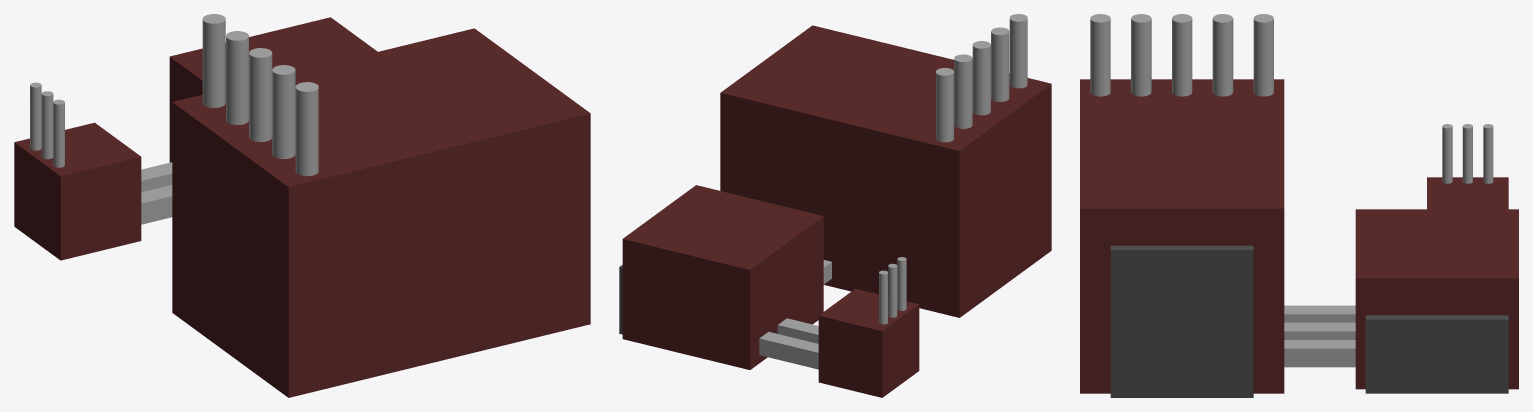
Rendered from factory.fbx.
3 views of the same model, side by side, from view 1: azimuth 30°, elevation 25°; view 2: azimuth 150°, elevation 25°; view 3: azimuth 270°, elevation 25° (orthographic). The views are drawn at different scales.
Visible parts, largest first — view 1: pCube1, pCube4, pCube3, pCylinder6, pCylinder5, pCylinder4, pCylinder7, pCylinder8, pCube5, pCylinder1, pCylinder2, pCylinder3 (+1 smaller); view 2: pCube1, pCube3, pCube4, pCube9, pCylinder5, pCylinder6, pCylinder7, pCylinder8, pCylinder4, pCube5, pCylinder3, pCylinder1 (+1 smaller); view 3: pCube1, pCube10, pCube3, pCube11, pCube4, pCube6, pCylinder8, pCylinder6, pCylinder7, pCylinder4, pCylinder5, pCube7 (+4 smaller).
Part boxes in pixels (<box>): pCube1: <box>172,28,590,397</box>; pCube4: <box>14,122,141,260</box>; pCube3: <box>169,17,377,162</box>; pCylinder6: <box>295,82,318,176</box>; pCylinder5: <box>249,48,272,141</box>; pCylinder4: <box>202,14,225,107</box>; pCylinder7: <box>272,65,295,158</box>; pCylinder8: <box>226,31,248,124</box>; pCube5: <box>141,185,172,224</box>; pCylinder1: <box>41,91,53,159</box>; pCylinder2: <box>30,82,41,150</box>; pCylinder3: <box>53,99,64,167</box>; pCube1: <box>720,25,1051,317</box>; pCube3: <box>622,185,823,369</box>; pCube4: <box>818,288,919,397</box>; pCube9: <box>759,331,818,369</box>; pCylinder5: <box>972,41,990,115</box>; pCylinder6: <box>1009,14,1027,88</box>; pCylinder7: <box>991,27,1009,101</box>; pCylinder8: <box>954,54,972,128</box>; pCylinder4: <box>936,68,953,142</box>; pCube5: <box>777,318,818,343</box>; pCylinder3: <box>897,257,906,310</box>; pCylinder1: <box>888,263,897,317</box>; pCube1: <box>1080,79,1284,393</box>; pCube10: <box>1110,245,1253,397</box>; pCube3: <box>1355,209,1518,389</box>; pCube11: <box>1365,315,1508,393</box>; pCube4: <box>1427,177,1508,209</box>; pCube6: <box>1284,340,1355,367</box>; pCylinder8: <box>1212,14,1233,96</box>; pCylinder6: <box>1090,14,1110,96</box>; pCylinder7: <box>1131,14,1151,96</box>; pCylinder4: <box>1253,14,1273,96</box>; pCylinder5: <box>1172,14,1192,96</box>; pCube7: <box>1284,322,1355,339</box>.
Bounding box in the file's own units: 17 × 14 × 21.5.
